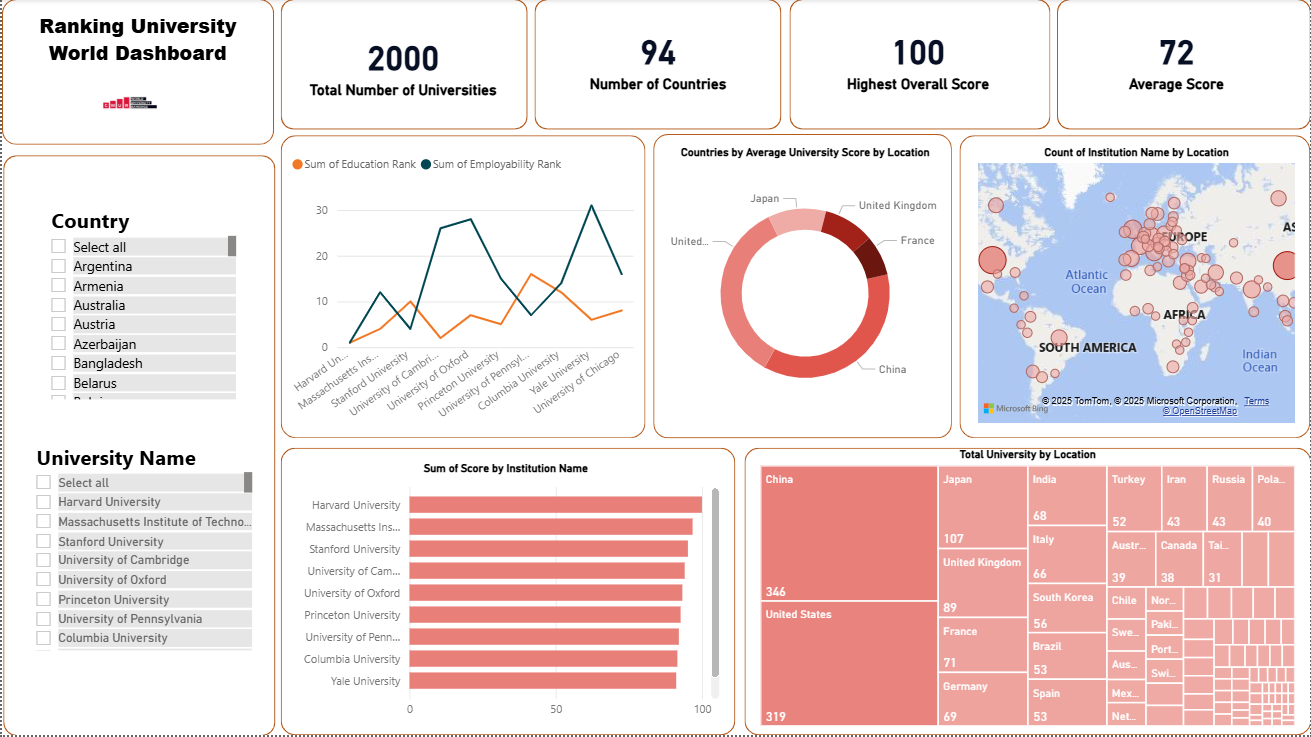

The dashboard page shown, as its layout file describes it:
{"tool":"powerbi","page":{"name":"HOME","canvas":[1280,720],"ordinal":0},"visuals":[{"type":"shape","box":[0,0,266.2,142.7],"z":0},{"type":"shape","box":[1.4,152.3,266.2,568.1],"z":1000},{"type":"shape","box":[273.1,0,241.5,127.6],"z":2000},{"type":"shape","box":[521.4,0,241.5,127.6],"z":3000},{"type":"shape","box":[769.8,0,255.2,127.6],"z":4000},{"type":"shape","box":[1031.9,0,248.4,127.6],"z":5000},{"type":"card","title":"Total Number of Universities","fields":{"Values":["Count(Ranking Universities World.World Rank)"]},"box":[289.5,9.6,205.8,108.4],"z":6000},{"type":"card","title":"Total Number of Universities","fields":{"Values":["Count(Ranking Universities World.Location)"]},"box":[535.2,6.9,212.7,101.5],"z":7000},{"type":"card","title":"Total Number of Universities","fields":{"Values":["Max(Ranking Universities World.Score)"]},"box":[801.4,6.9,190.7,101.5],"z":8000},{"type":"card","title":"Total Number of Universities","fields":{"Values":["Avg(Ranking Universities World.Score)"]},"box":[1056.6,6.9,185.2,101.5],"z":9000},{"type":"slicer","fields":{"Values":["Ranking Universities World.Location"]},"box":[35.7,197.6,199,199],"z":10000},{"type":"slicer","fields":{"Values":["Ranking Universities World.Institution Name"]},"box":[20.6,429.5,229.2,212.7],"z":11000},{"type":"shape","box":[273.1,133.1,356.8,296.4],"z":12000},{"type":"shape","box":[273.1,439.1,444.6,281.3],"z":13000},{"type":"shape","box":[725.9,438.7,554.4,281.3],"z":14000},{"type":"shape","box":[637.3,131.7,292.3,297.8],"z":15000},{"type":"shape","box":[936.9,133.1,343.1,296.4],"z":16000},{"type":"donutChart","fields":{"Category":["Ranking Universities World.Location"],"Y":["Sum(Ranking Universities World.Score)"]},"box":[649.1,142.7,273.1,277.2],"z":17000},{"type":"map","fields":{"Category":["Ranking Universities World.Location"],"Size":["CountNonNull(Ranking Universities World.Institution Name)"]},"box":[949.6,142.7,319.7,277.2],"z":18000},{"type":"lineChart","fields":{"Category":["Ranking Universities World.Institution Name"],"Y":["Sum(Ranking Universities World.Education Rank)","Sum(Ranking Universities World.Employability Rank)"]},"box":[278.6,142.7,344.4,277.2],"z":19000},{"type":"barChart","fields":{"Category":["Ranking Universities World.Institution Name"],"Y":["Sum(Ranking Universities World.Score)"]},"box":[278.6,452.8,428.1,259.3],"z":20000},{"type":"treemap","fields":{"Group":["Ranking Universities World.Location"],"Values":["Count(Ranking Universities World.Institution Name)"]},"box":[736.9,439.1,532.4,277.2],"z":21000},{"type":"image","box":[1.4,71.4,248.4,61.7],"z":22000},{"type":"textbox","box":[1.4,6.9,263.5,70],"z":23000}]}

Visuals, with their boxes in screenshot pixels (x1, y1, x2, y2), scaled from the page's 1280x720 canvas onto the 1311x737 screenshot:
shape: pyautogui.locateOnScreen(0, 0, 273, 146)
shape: pyautogui.locateOnScreen(1, 156, 274, 736)
shape: pyautogui.locateOnScreen(280, 0, 527, 131)
shape: pyautogui.locateOnScreen(534, 0, 781, 131)
shape: pyautogui.locateOnScreen(788, 0, 1050, 131)
shape: pyautogui.locateOnScreen(1057, 0, 1310, 131)
"Total Number of Universities" card: pyautogui.locateOnScreen(297, 10, 507, 121)
"Total Number of Universities" card: pyautogui.locateOnScreen(548, 7, 766, 111)
"Total Number of Universities" card: pyautogui.locateOnScreen(821, 7, 1016, 111)
"Total Number of Universities" card: pyautogui.locateOnScreen(1082, 7, 1272, 111)
slicer - Ranking Universities World.Location: pyautogui.locateOnScreen(37, 202, 240, 406)
slicer - Ranking Universities World.Institution Name: pyautogui.locateOnScreen(21, 440, 256, 657)
shape: pyautogui.locateOnScreen(280, 136, 645, 440)
shape: pyautogui.locateOnScreen(280, 449, 735, 736)
shape: pyautogui.locateOnScreen(743, 449, 1310, 736)
shape: pyautogui.locateOnScreen(653, 135, 952, 440)
shape: pyautogui.locateOnScreen(960, 136, 1310, 440)
donutChart - Ranking Universities World.Location x Sum(Ranking Universities World.Score): pyautogui.locateOnScreen(665, 146, 945, 430)
map - Ranking Universities World.Location x CountNonNull(Ranking Universities World.Institution Name): pyautogui.locateOnScreen(973, 146, 1300, 430)
lineChart - Ranking Universities World.Institution Name x Sum(Ranking Universities World.Education Rank): pyautogui.locateOnScreen(285, 146, 638, 430)
barChart - Ranking Universities World.Institution Name x Sum(Ranking Universities World.Score): pyautogui.locateOnScreen(285, 463, 724, 729)
treemap - Ranking Universities World.Location x Count(Ranking Universities World.Institution Name): pyautogui.locateOnScreen(755, 449, 1300, 733)
image: pyautogui.locateOnScreen(1, 73, 256, 136)
textbox: pyautogui.locateOnScreen(1, 7, 271, 79)
